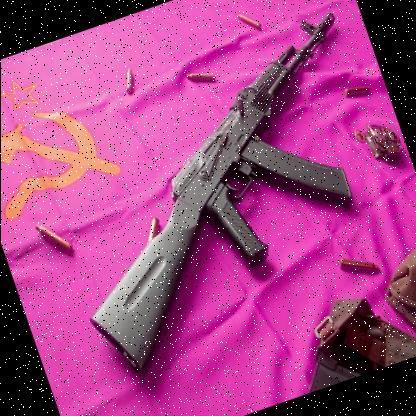rifle: (1, 0, 416, 406)
